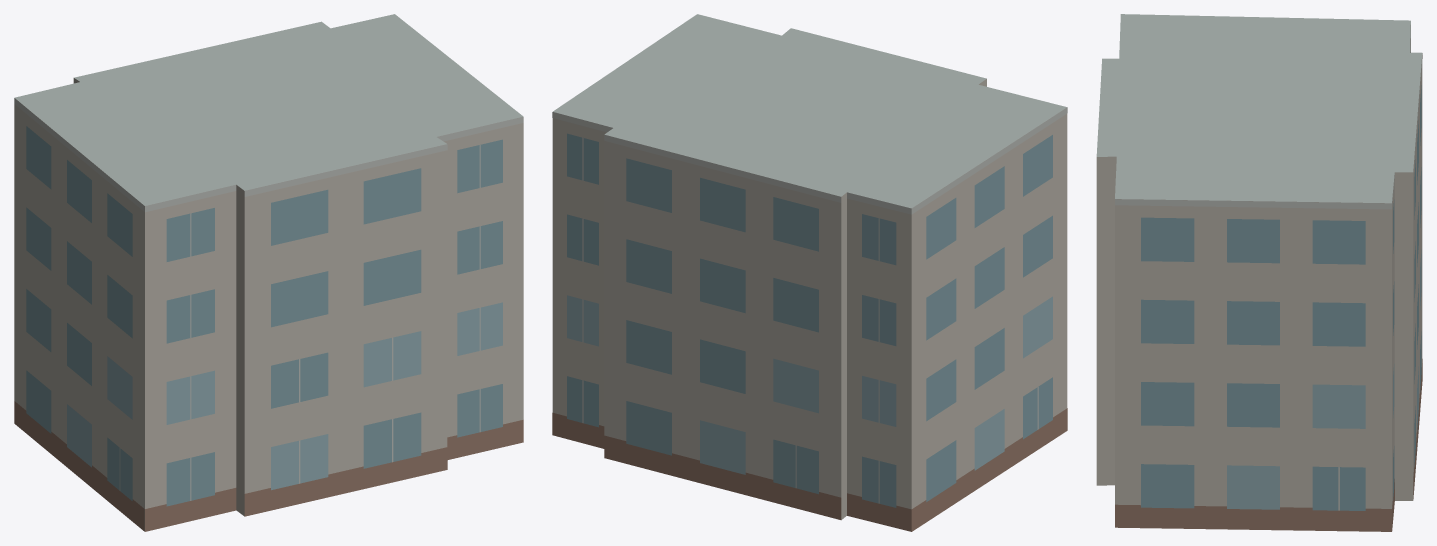
File: survey-upis-32688178.glb
The picture shows the model from 3 angles, left to right: view 1: azimuth 30°, elevation 25°; view 2: azimuth 150°, elevation 25°; view 3: azimuth 270°, elevation 25°; orthographic projection.
Visible parts, largest first — view 1: survey-upis-32688178.tmp; view 2: survey-upis-32688178.tmp; view 3: survey-upis-32688178.tmp.
Part boxes in pixels (x1,y1,x2,y2): survey-upis-32688178.tmp: (14, 14, 523, 531); survey-upis-32688178.tmp: (552, 14, 1067, 531); survey-upis-32688178.tmp: (1096, 14, 1422, 531).
Size of the model in its own units: 15.81 by 12.8 by 11.51.
